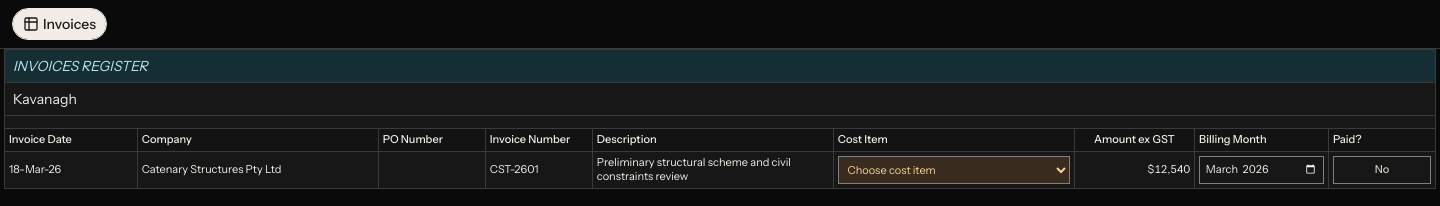
Test case: WorkbookGrid invoice controls › keeps the schedule visible while the regenerated workbook refreshes
Click the button with aria-label "Mark invoice CST-2601 paid": (1382, 170) [1333,156,1431,184]
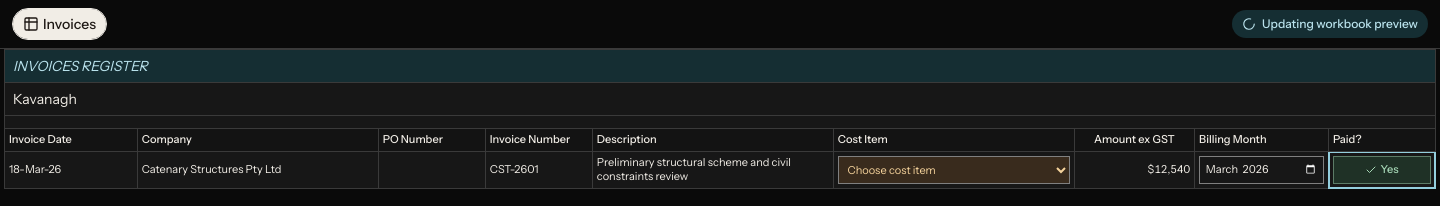
Result: the button with aria-label "Mark invoice CST-2601 unpaid" is shown at [1333,156,1431,184]
